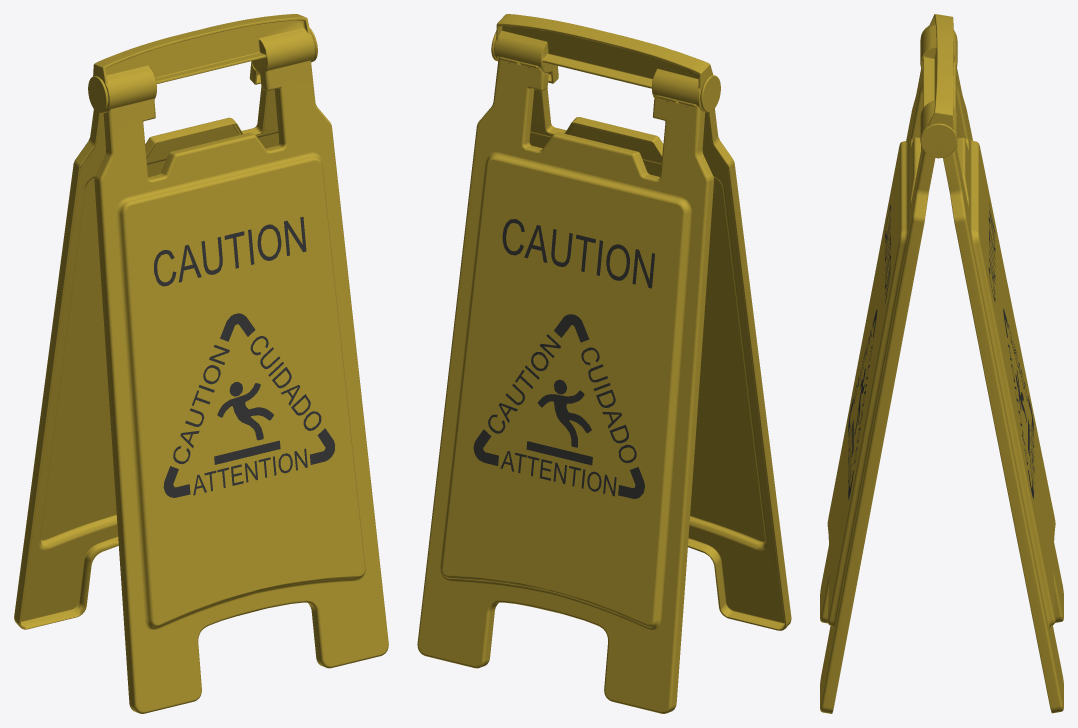
Rendered from sign_wet.glb.
3 views of the same model, side by side, from view 1: azimuth 30°, elevation 25°; view 2: azimuth 150°, elevation 25°; view 3: azimuth 270°, elevation 25° (orthographic).
Visible parts, largest first — view 1: sign_wet_mesh; view 2: sign_wet_mesh; view 3: sign_wet_mesh.
Boxes of the visible parts, bbox=[...] form: sign_wet_mesh: bbox=[14, 14, 388, 713]; sign_wet_mesh: bbox=[417, 14, 791, 713]; sign_wet_mesh: bbox=[820, 14, 1063, 713].
Bounding box in the file's own units: 0.2797 × 0.6401 × 0.2354.
